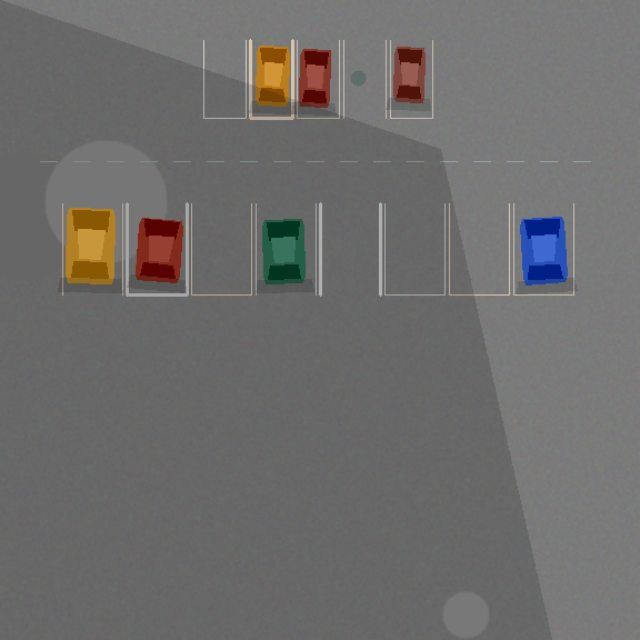space-empty: (191, 203, 251, 294), (320, 203, 380, 294), (384, 203, 444, 294), (449, 203, 509, 294), (203, 40, 246, 118), (343, 40, 386, 118)
space-occupied: (62, 203, 122, 294), (127, 203, 187, 294), (256, 203, 316, 294), (513, 203, 573, 294), (250, 40, 292, 118), (297, 40, 339, 118), (390, 40, 432, 118)
